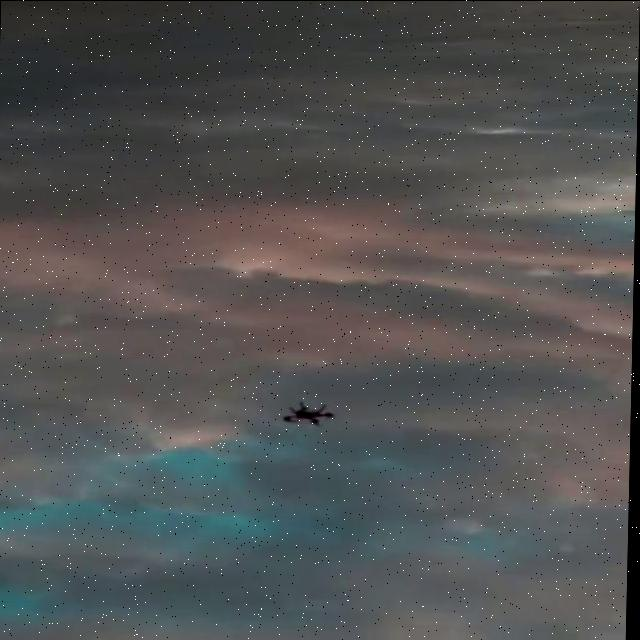drone: (280, 400, 338, 428)
